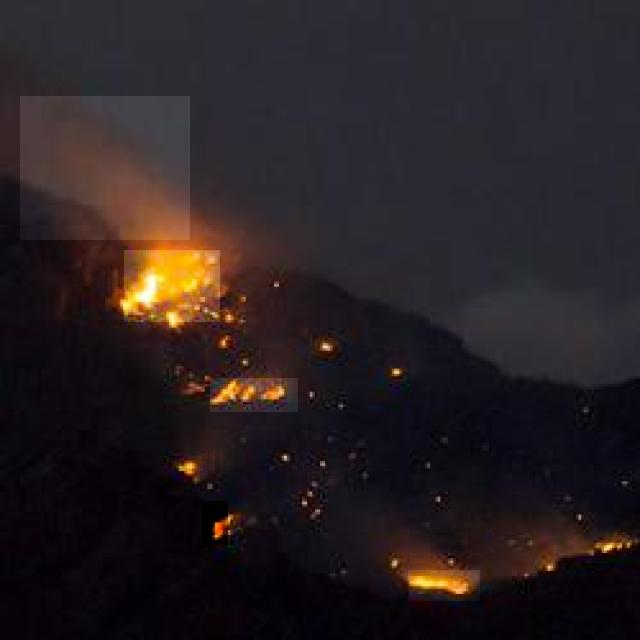Fire: (124, 250, 220, 322), (210, 378, 298, 412), (408, 570, 481, 601), (202, 501, 228, 545), (174, 455, 203, 481)
Smoke: (21, 96, 190, 240)
